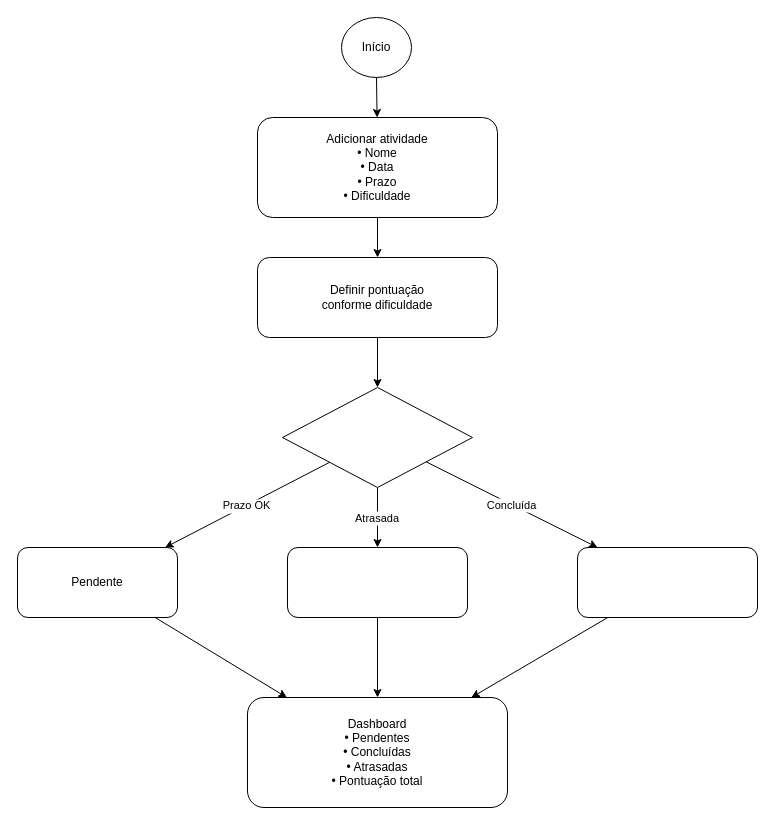
Image size: 775x825. Some labels were removed from this diagram. The shapes that lost their labels are listed below. From the top down, each one's box as (x1, y1, x2, y2) in pixels, then its label:
(282, 386, 472, 488): Verificar status da atividade
(286, 546, 468, 618): Atrasada Enviar notificação
(576, 546, 758, 618): Concluída Adicionar pontos
